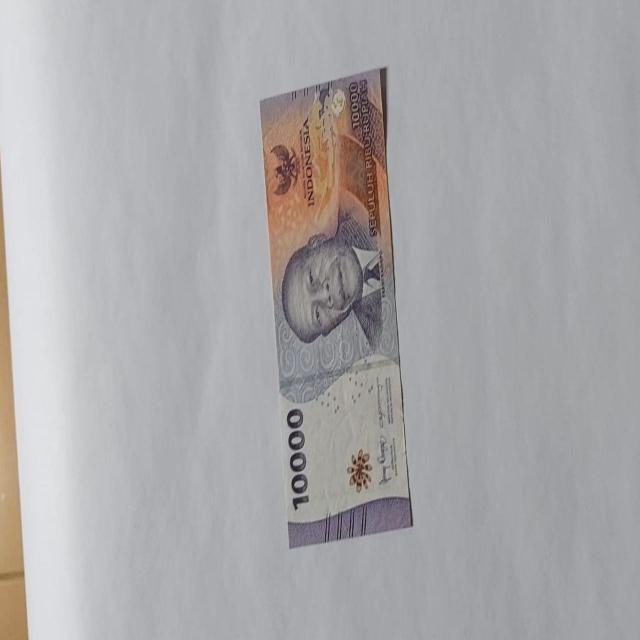Kertas: (258, 65, 414, 548)
